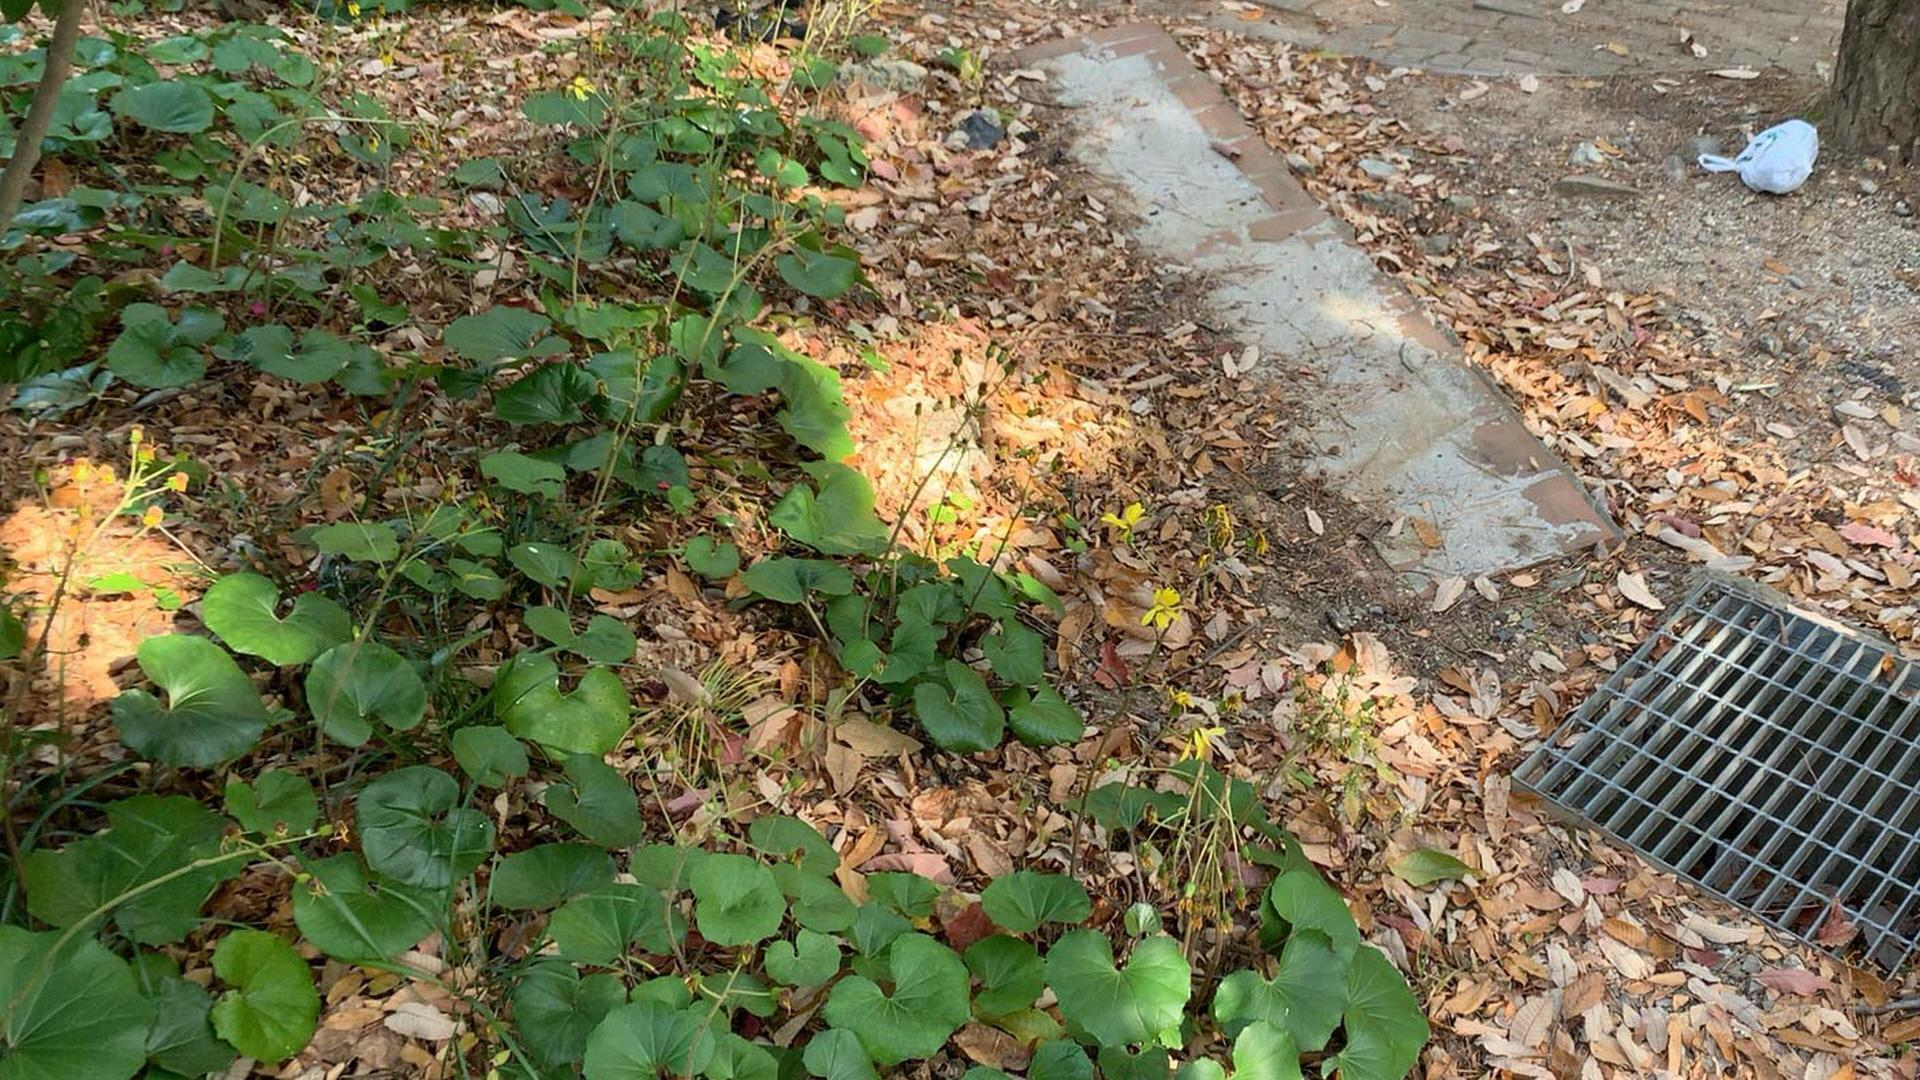white_bag: (1689, 113, 1824, 204)
